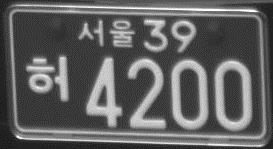0: (214, 58, 255, 134), (170, 57, 211, 131)
2: (126, 55, 168, 132)
3: (142, 17, 169, 53)
4: (84, 56, 124, 128)
9: (170, 18, 198, 54)
서울_O: (77, 18, 135, 49)
허: (25, 52, 70, 104)
